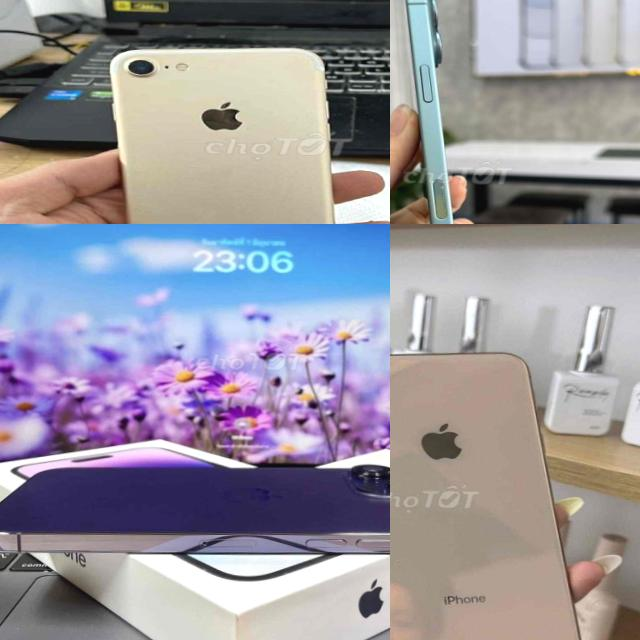gen_14: (0, 457, 390, 553)
gen_16: (406, 0, 451, 224)
gen_7_8: (100, 42, 351, 224)
gen_x_xs: (390, 344, 592, 640)
